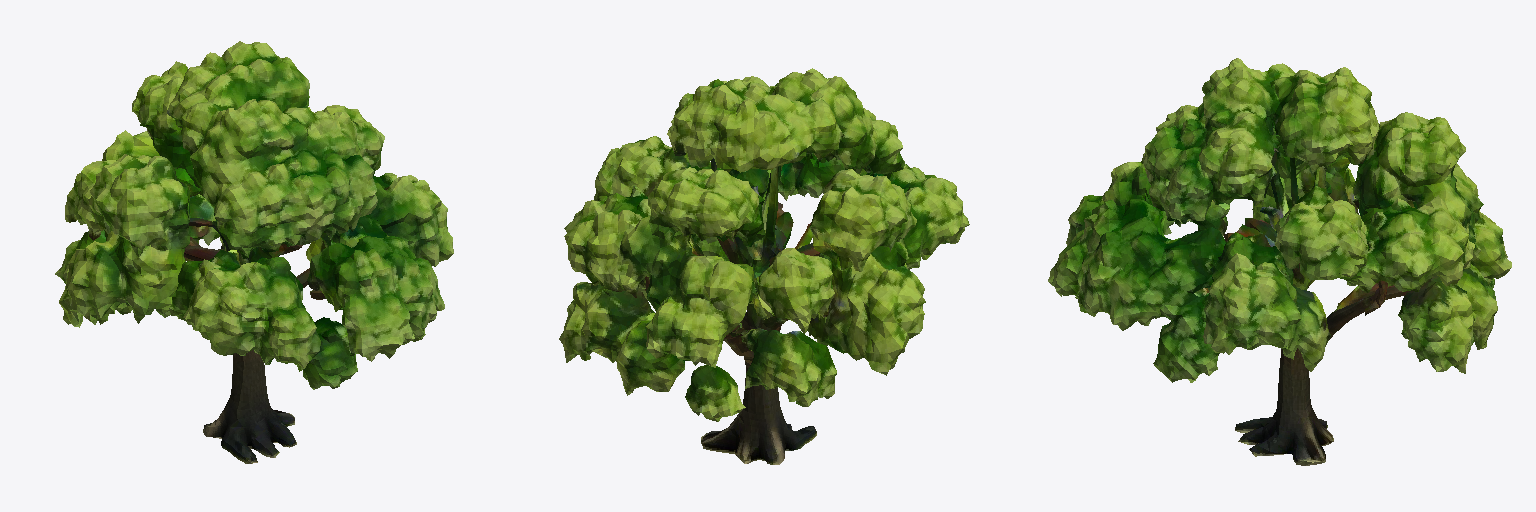
3 views of the same model, side by side, from view 1: azimuth 30°, elevation 25°; view 2: azimuth 150°, elevation 25°; view 3: azimuth 270°, elevation 25° (orthographic).
Visible parts, largest first — view 1: tripo_node_bc9edb44-5d7c-43c4-a0e3-6b37a6f71fb3; view 2: tripo_node_bc9edb44-5d7c-43c4-a0e3-6b37a6f71fb3; view 3: tripo_node_bc9edb44-5d7c-43c4-a0e3-6b37a6f71fb3.
Part boxes in pixels (x1,y1,x2,y2): tripo_node_bc9edb44-5d7c-43c4-a0e3-6b37a6f71fb3: (55,41,453,463); tripo_node_bc9edb44-5d7c-43c4-a0e3-6b37a6f71fb3: (559,68,969,464); tripo_node_bc9edb44-5d7c-43c4-a0e3-6b37a6f71fb3: (1048,58,1511,465).
Bounding box in the file's own units: 0.7909 × 0.833 × 0.9308.
1 materials, 1 textured.